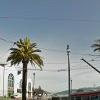Palm tree: (8, 29, 50, 99)
